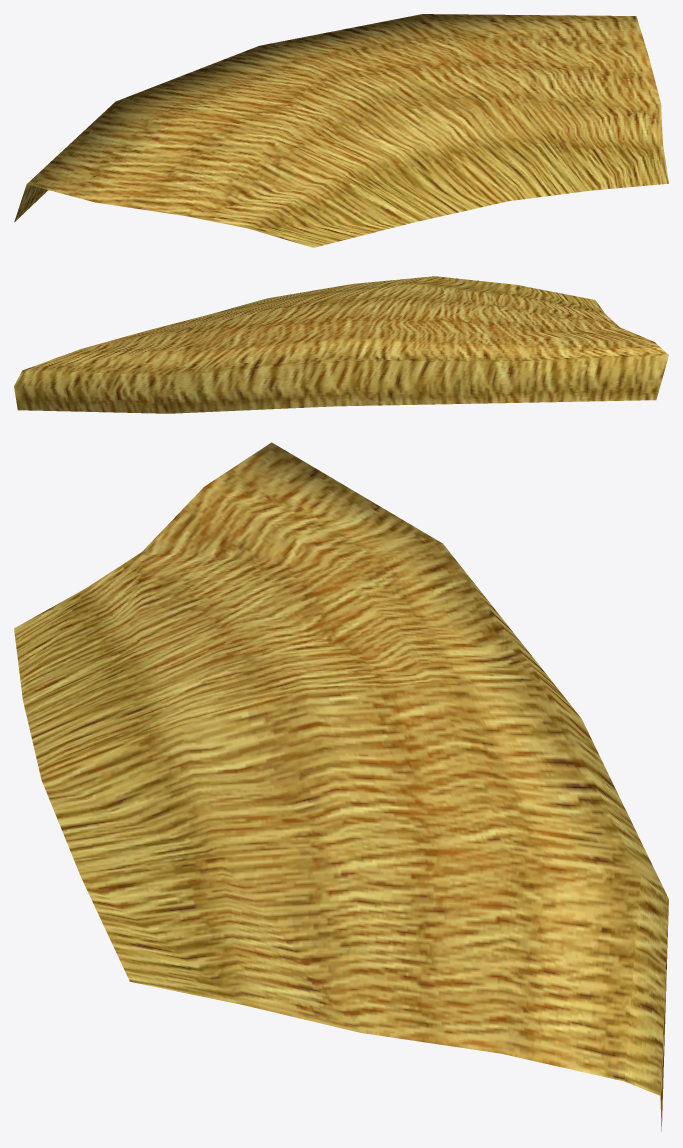
File: HTOWN01_BAGROW1AWNING2.fbx
3 renders of one model, top to bottom at view 1: azimuth 30°, elevation 25°; view 2: azimuth 150°, elevation 25°; view 3: azimuth 270°, elevation 25°, orthographic. The views are drawn at different scales.
Parts seen in each view (by area): view 1: HTOWN01_BAGROW1AWNING2; view 2: HTOWN01_BAGROW1AWNING2; view 3: HTOWN01_BAGROW1AWNING2.
Part boxes in pixels (<box>): HTOWN01_BAGROW1AWNING2: <box>14,14,668,247</box>; HTOWN01_BAGROW1AWNING2: <box>14,276,668,413</box>; HTOWN01_BAGROW1AWNING2: <box>14,442,668,1131</box>.
Size of the model in its own units: 49241 by 9461 by 27614.
2 materials, 2 textured.
